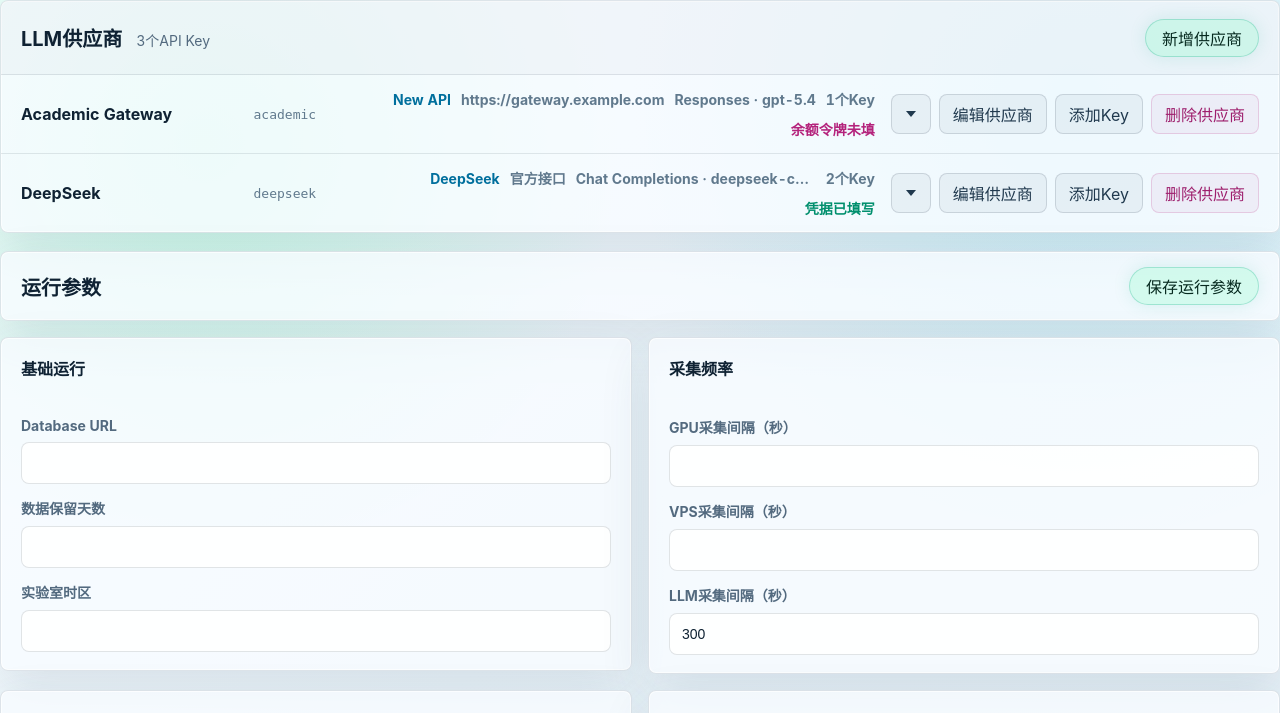
Test: Settings LLM供应商配置 › New API在供应商配置显示余额令牌状态，Key行只显示模型Key状态
Step 1. Click the button named "展开Academic Gateway的Key" → {"x": 911, "y": 114}, box 891,94 -> 931,134
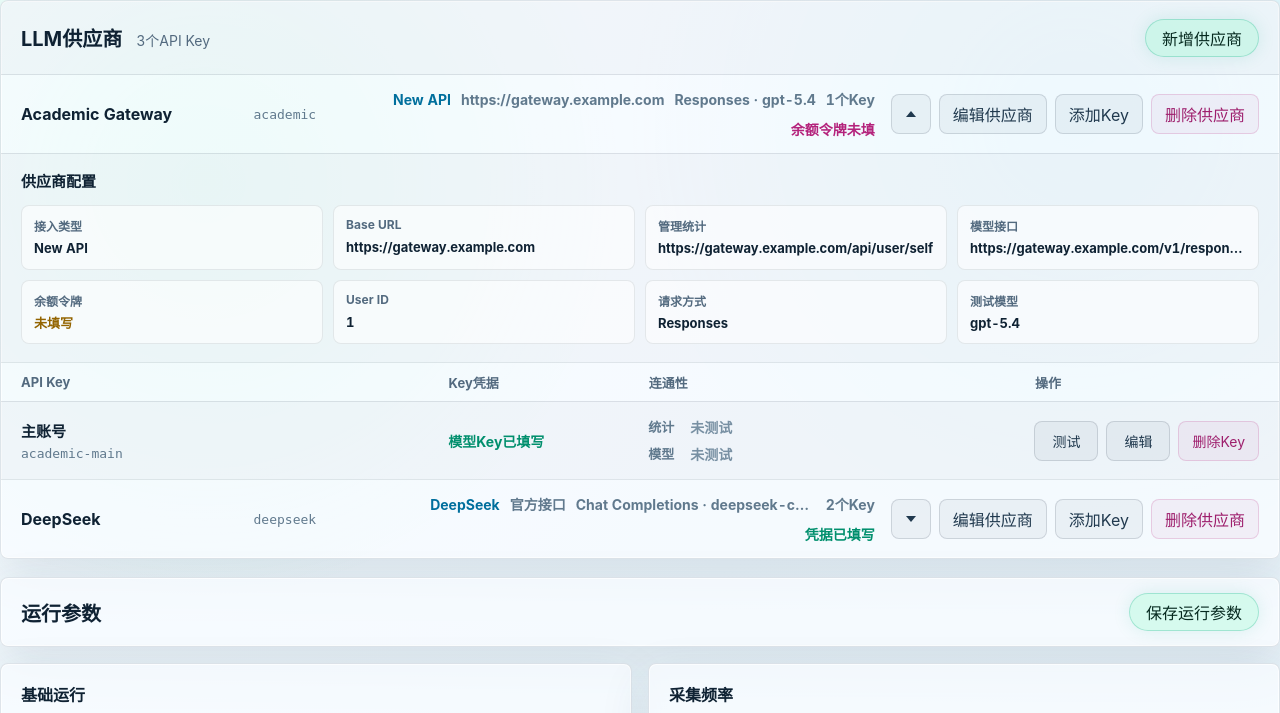
Result: the text "余额令牌" is shown at 34,294 -> 82,308
Result: the text "未填写" is shown at 34,314 -> 73,330
Result: the text "模型Key已填写" is shown at 448,433 -> 544,450
